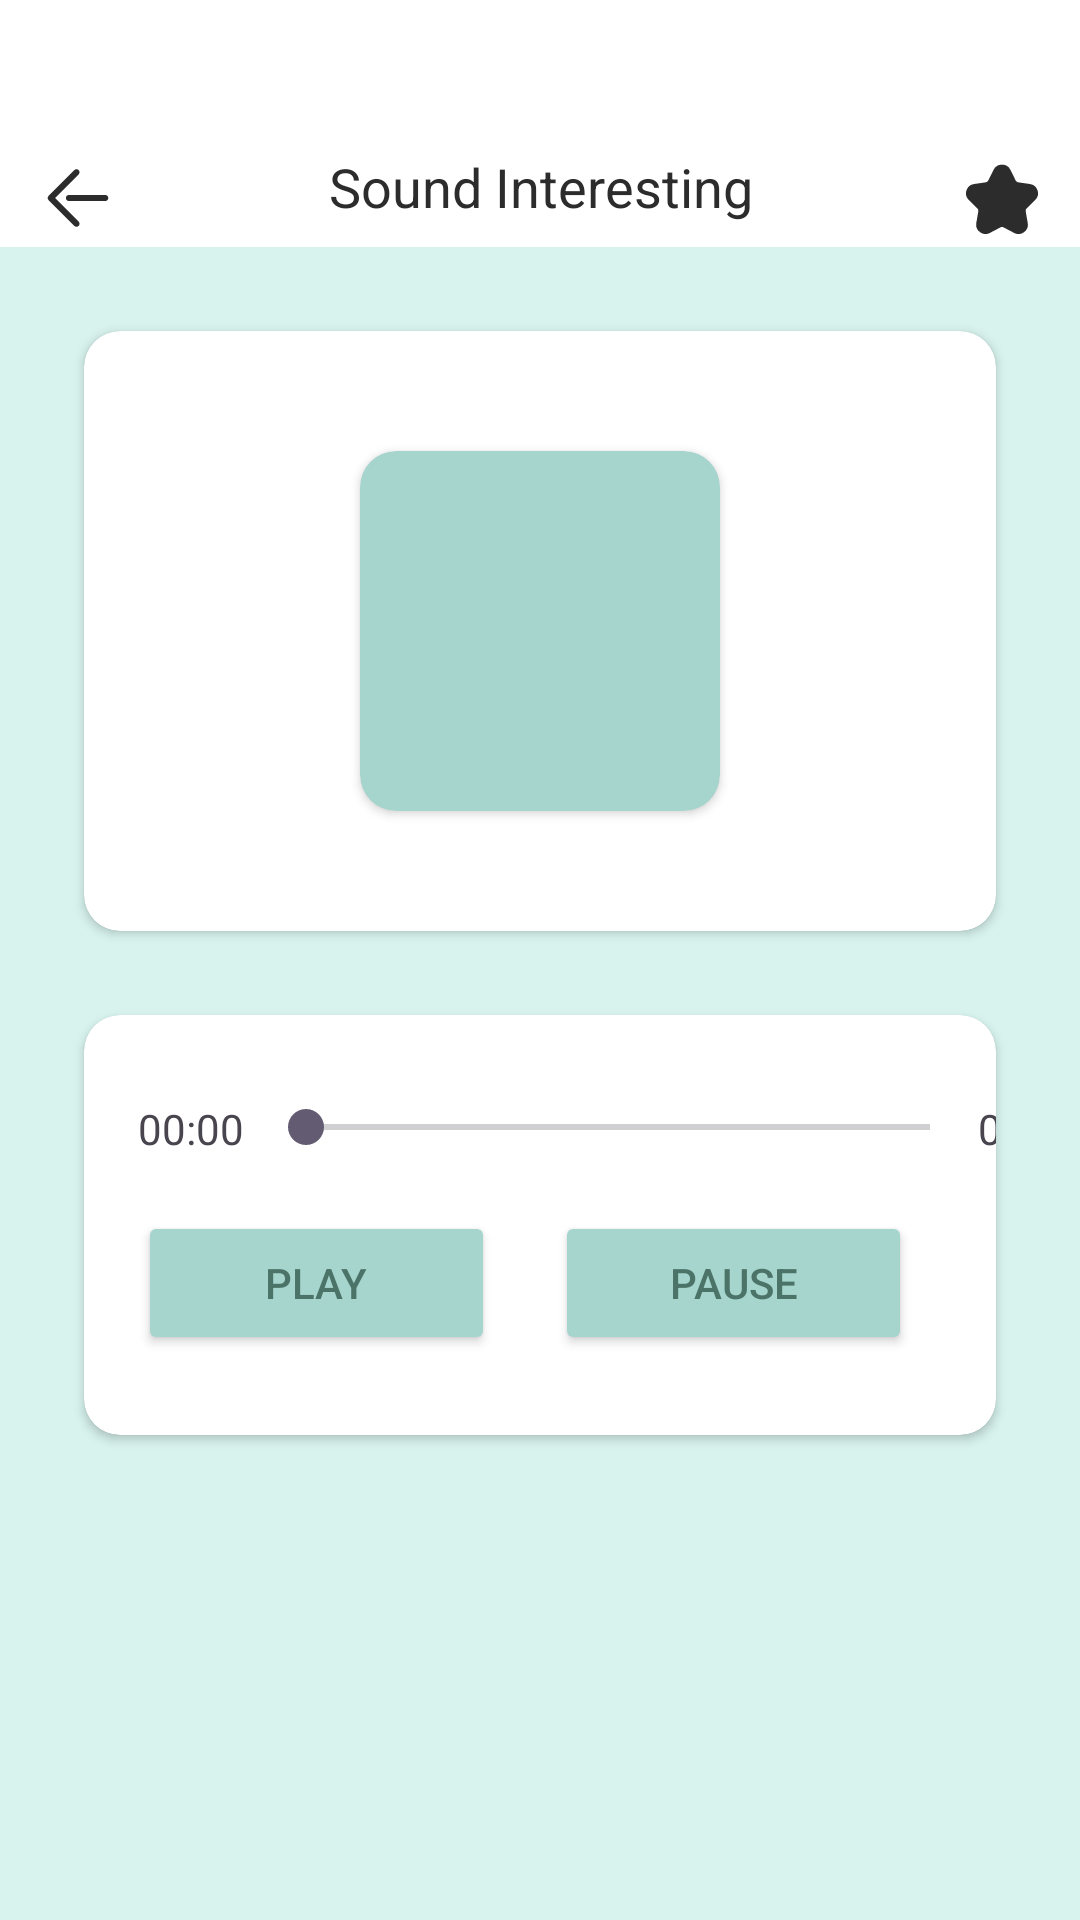

Icons on this 1080px x 1920px Android screen, each with the point to tap as [x,y]:
back: [78,198]
rating: [1002,199]
